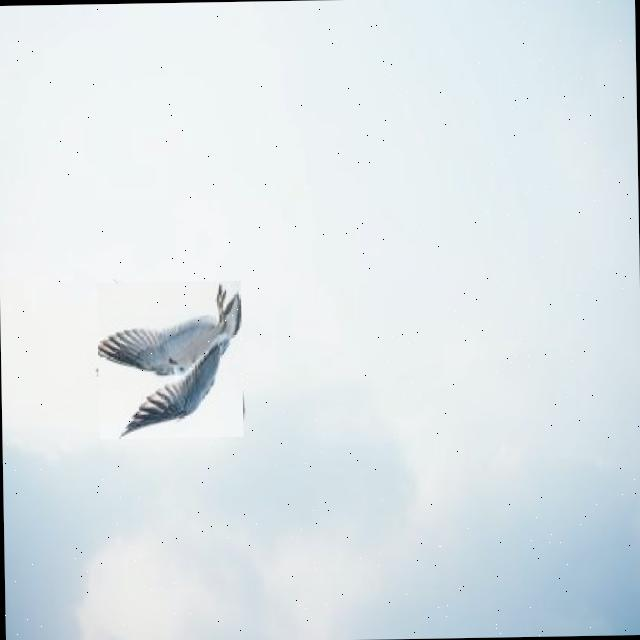bird: (96, 281, 243, 438)
